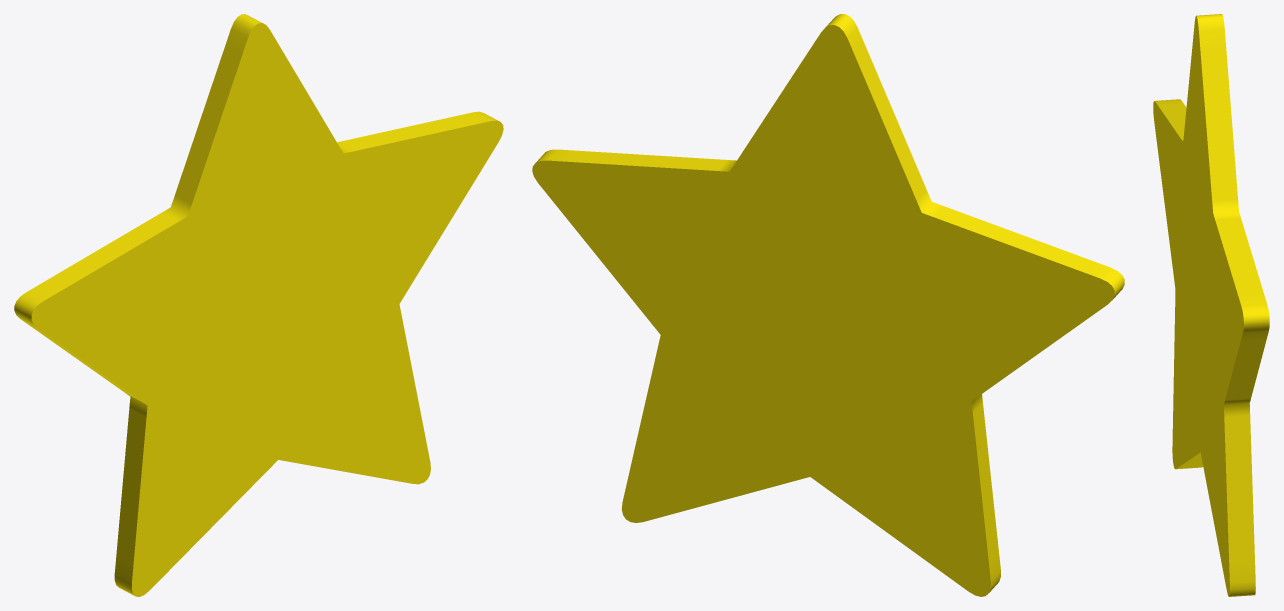
Rendered from star.FBX.
3 views of the same model, side by side, from view 1: azimuth 30°, elevation 25°; view 2: azimuth 150°, elevation 25°; view 3: azimuth 270°, elevation 25° (orthographic). The views are drawn at different scales.
Visible parts, largest first — view 1: Star001; view 2: Star001; view 3: Star001.
Part boxes in pixels (bbox=[...]): Star001: bbox=[14, 14, 503, 596]; Star001: bbox=[532, 14, 1124, 596]; Star001: bbox=[1153, 14, 1269, 596].
Size of the model in its own units: 1.89 by 1.84 by 0.3808.
